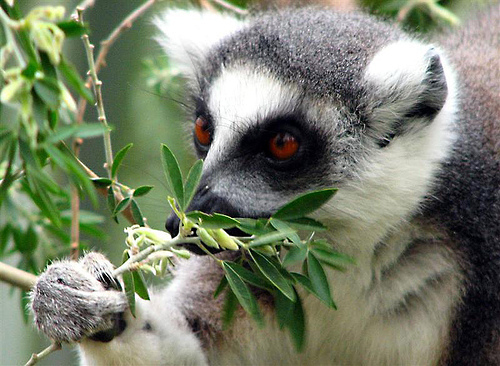cat: (27, 1, 499, 365)
